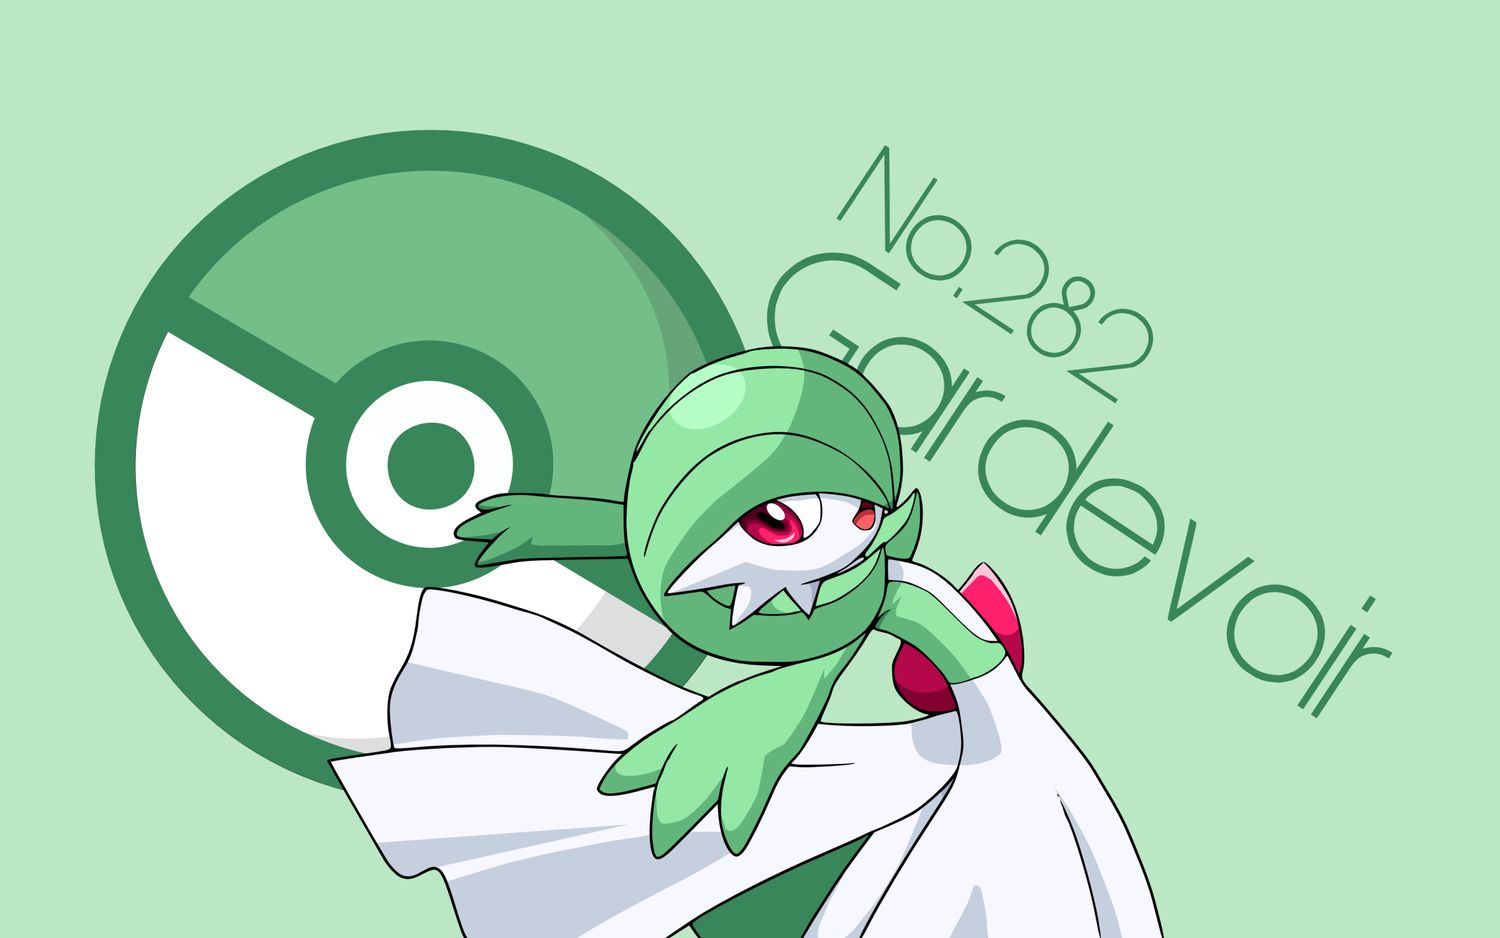gardevoir: (364, 341, 1155, 938)
